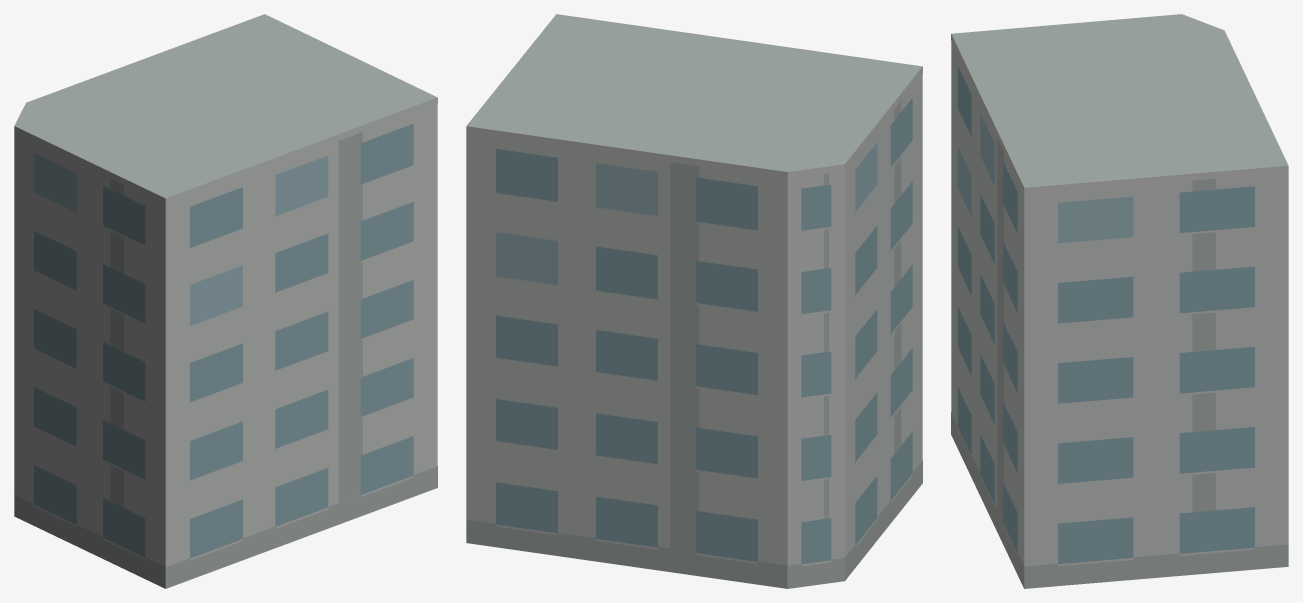
File: survey-upis-32721910.glb
3 views of the same model, side by side, from view 1: azimuth 30°, elevation 25°; view 2: azimuth 150°, elevation 25°; view 3: azimuth 270°, elevation 25° (orthographic). The views are drawn at different scales.
Parts seen in each view (by area): view 1: survey-upis-32721910.tmp; view 2: survey-upis-32721910.tmp; view 3: survey-upis-32721910.tmp.
Boxes of the visible parts, box(x1,y1,x2,y2) form: survey-upis-32721910.tmp: box(14, 14, 437, 588); survey-upis-32721910.tmp: box(466, 14, 922, 588); survey-upis-32721910.tmp: box(951, 14, 1288, 588).
Size of the model in its own units: 13.3 by 14.3 by 10.91.
